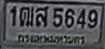1: (10, 6, 16, 26)
4: (76, 8, 86, 28)
5: (52, 6, 63, 27)
6: (64, 8, 74, 27)
9: (87, 8, 98, 29)
A18: (19, 5, 34, 26)
A40: (35, 5, 49, 27)
BKK: (16, 32, 87, 47)
